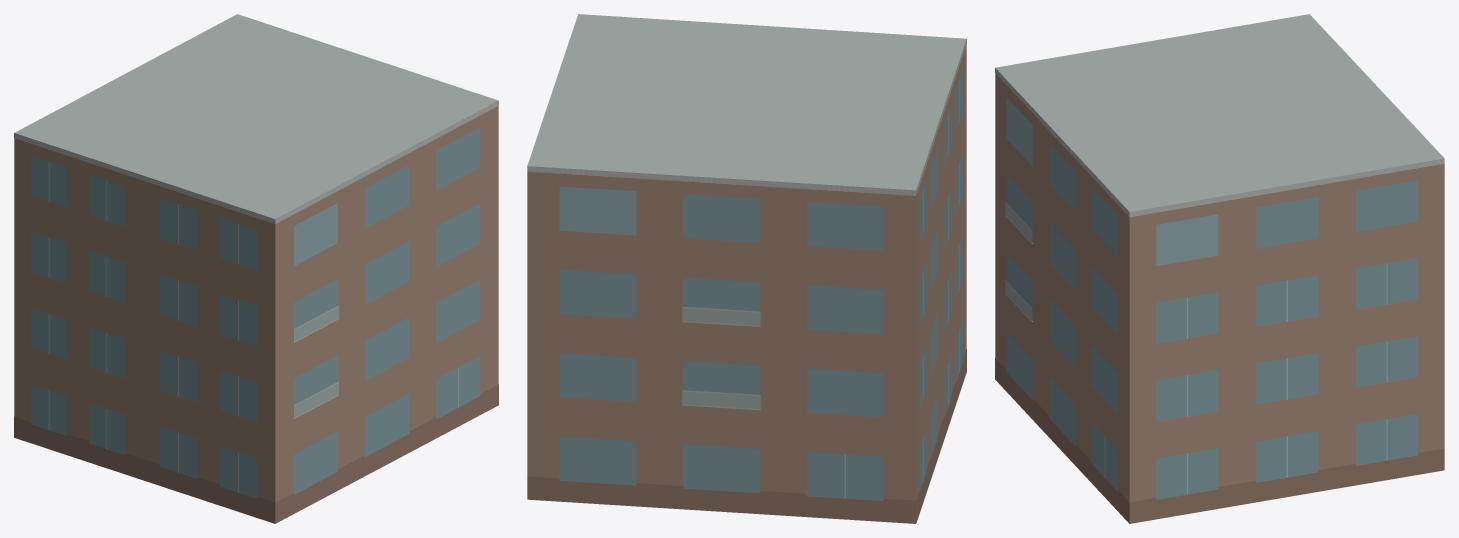
File: survey-upis-32863137.glb
The picture shows the model from 3 angles, left to right: view 1: azimuth 30°, elevation 25°; view 2: azimuth 150°, elevation 25°; view 3: azimuth 270°, elevation 25°; orthographic projection. The views are drawn at different scales.
Visible parts, largest first — view 1: survey-upis-32863137.tmp; view 2: survey-upis-32863137.tmp; view 3: survey-upis-32863137.tmp.
Part boxes in pixels (x1,y1,x2,y2): survey-upis-32863137.tmp: (14,14,498,523); survey-upis-32863137.tmp: (527,14,966,523); survey-upis-32863137.tmp: (995,14,1444,523).
Size of the model in its own units: 19.67 by 14.43 by 18.86.
